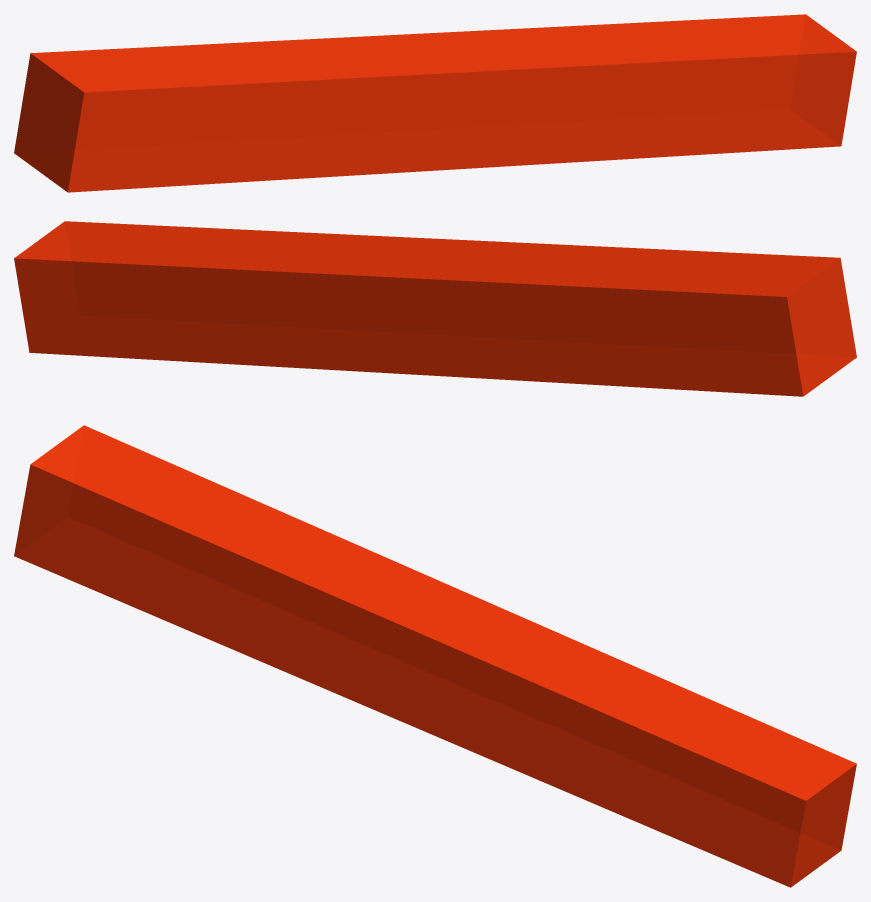
Rendered from Event_420107950_EErechit_1.fbx.
3 renders of one model, top to bottom at view 1: azimuth 30°, elevation 25°; view 2: azimuth 150°, elevation 25°; view 3: azimuth 330°, elevation 25°, orthographic.
Parts seen in each view (by area): view 1: Model; view 2: Model; view 3: Model.
Boxes of the visible parts, x1,y1,x2,y2 form: Model: (14, 14, 856, 192); Model: (14, 221, 856, 396); Model: (14, 425, 856, 887).
Bounding box in the file's own units: 0.6509 × 0.1896 × 0.0766.
